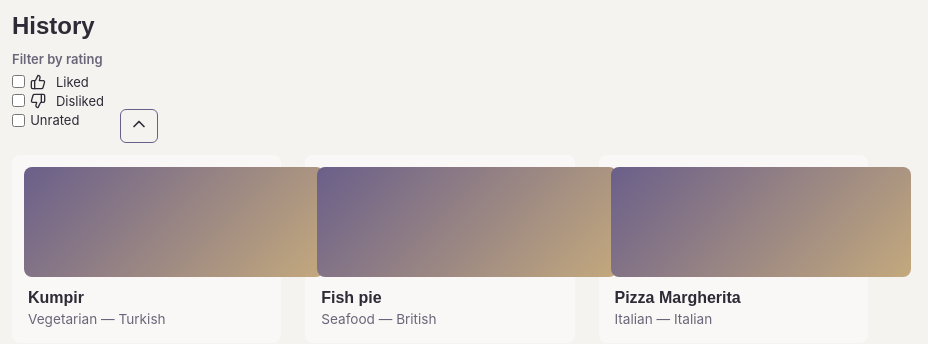
History › filters by liked entries when liked checkbox is toggled
Click the checkbox labelled "Liked".
click(18, 82)  # box x1=12 y1=75 x2=25 y2=88
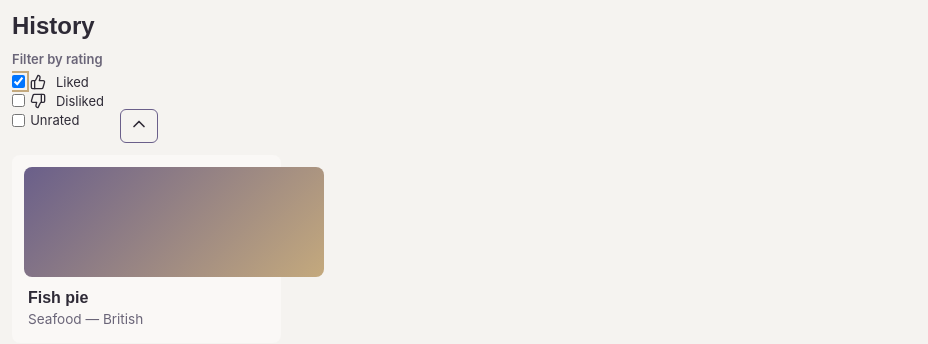
Expected: the heading "Fish pie" is shown, x1=28 y1=289 x2=88 y2=306
Expected: the link "Pizza Margherita" is gone
Expected: the link "Kumpir" is gone
